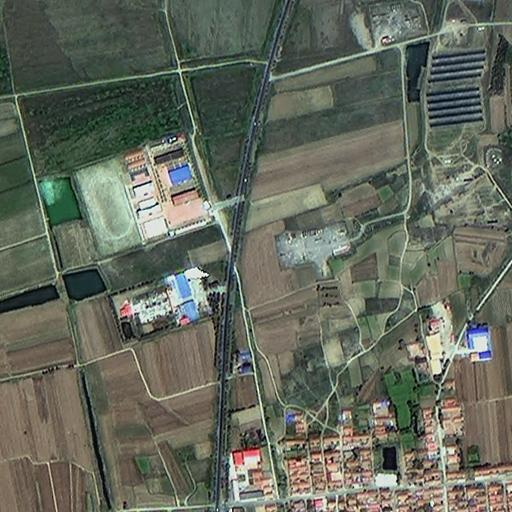school: (67, 130, 212, 259)
